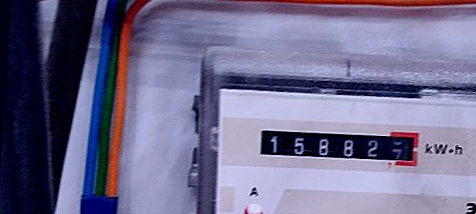1: (266, 132, 279, 152)
2: (365, 137, 378, 157)
5: (291, 134, 304, 155)
7: (390, 146, 401, 160)
8: (316, 135, 329, 157), (341, 137, 354, 158)
screen: (250, 116, 428, 173)
